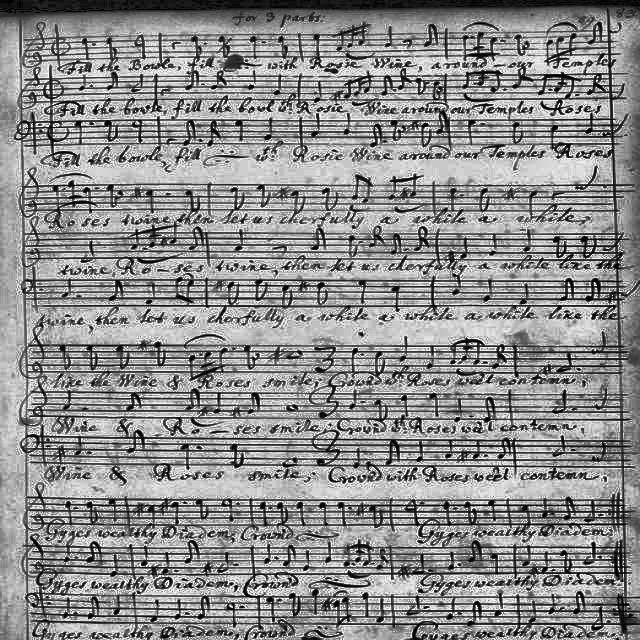Diez: (394, 564, 410, 582), (52, 445, 66, 463), (274, 186, 290, 200), (502, 187, 518, 201), (352, 502, 366, 518), (131, 502, 145, 518), (201, 561, 211, 579), (605, 290, 617, 304), (212, 279, 225, 291), (298, 280, 310, 292), (529, 566, 541, 578), (148, 566, 160, 578), (456, 450, 468, 462), (408, 118, 418, 132), (132, 186, 142, 198), (323, 600, 333, 612), (400, 188, 408, 200), (160, 500, 168, 512), (160, 237, 168, 247)
Eighth-note: (128, 430, 152, 456), (227, 442, 249, 470), (238, 340, 256, 372), (229, 182, 247, 210), (481, 396, 499, 424), (466, 600, 484, 628), (386, 441, 404, 467), (187, 188, 206, 212), (152, 340, 168, 368), (58, 344, 74, 372), (255, 183, 272, 209), (251, 279, 271, 301), (123, 392, 145, 412), (102, 120, 120, 144), (320, 186, 338, 210), (374, 398, 392, 422), (105, 183, 121, 209), (310, 228, 326, 254), (84, 345, 100, 371), (580, 235, 598, 257), (190, 225, 204, 253), (588, 22, 604, 46), (478, 188, 494, 212), (551, 234, 567, 258), (586, 278, 602, 302), (276, 501, 292, 525), (464, 502, 480, 526), (184, 541, 200, 565), (287, 592, 303, 616), (193, 498, 210, 520), (182, 120, 196, 146), (560, 277, 574, 303), (280, 284, 294, 310), (110, 281, 126, 303), (468, 540, 484, 562), (105, 36, 119, 60), (217, 34, 231, 58), (564, 76, 578, 100), (511, 120, 525, 144), (349, 172, 361, 200), (315, 282, 329, 306), (82, 184, 94, 212), (116, 344, 130, 368), (369, 504, 383, 528), (559, 549, 573, 573), (284, 544, 298, 568), (86, 596, 100, 620), (196, 596, 210, 620), (374, 349, 386, 376), (567, 33, 581, 56), (86, 501, 100, 524), (426, 23, 438, 49), (342, 596, 354, 622), (292, 190, 306, 212), (226, 282, 240, 304), (186, 389, 200, 411), (248, 393, 262, 415), (498, 439, 512, 461), (87, 542, 101, 564), (50, 183, 61, 210), (278, 36, 290, 60), (514, 33, 526, 57), (370, 124, 382, 148), (128, 228, 140, 252), (421, 124, 433, 148), (562, 496, 574, 520), (573, 590, 585, 614), (185, 71, 199, 91), (390, 232, 402, 255), (414, 76, 428, 95), (398, 68, 409, 92), (438, 113, 450, 135), (186, 280, 197, 304), (486, 35, 498, 57), (390, 120, 402, 142), (187, 354, 197, 380), (473, 338, 482, 366), (491, 70, 501, 94), (432, 80, 444, 100), (382, 76, 394, 96), (410, 174, 420, 198), (362, 178, 372, 202), (172, 278, 182, 302), (169, 222, 179, 245), (218, 346, 228, 369), (538, 74, 548, 96), (108, 72, 119, 92), (334, 32, 346, 50), (462, 34, 470, 58), (389, 176, 397, 200), (348, 236, 356, 260), (450, 342, 458, 366), (344, 544, 352, 568), (332, 602, 340, 624), (364, 542, 371, 566), (463, 71, 472, 89), (346, 80, 354, 100)
Eighth-rest: (270, 243, 288, 257)
Half-note: (126, 120, 148, 144), (132, 34, 152, 60), (402, 594, 422, 618), (79, 240, 97, 264), (556, 352, 574, 374), (550, 390, 566, 414), (404, 501, 420, 524), (224, 601, 238, 627), (130, 74, 148, 94), (216, 552, 232, 574), (583, 542, 597, 566), (220, 498, 233, 522), (592, 606, 604, 630), (584, 500, 596, 524), (552, 436, 566, 456), (413, 554, 427, 574)
Quarter-note: (144, 280, 160, 308), (398, 335, 414, 363), (424, 344, 440, 372), (230, 228, 248, 252), (520, 228, 536, 254), (428, 392, 444, 418), (492, 592, 506, 620), (308, 589, 322, 617), (178, 442, 192, 470), (306, 114, 322, 138), (296, 502, 312, 526), (388, 287, 402, 313), (527, 600, 541, 626), (266, 597, 280, 623), (518, 282, 532, 306), (487, 233, 501, 257), (459, 238, 473, 262), (262, 116, 276, 140), (318, 502, 332, 526), (400, 394, 414, 418), (357, 279, 369, 305), (376, 598, 388, 624), (79, 38, 93, 60), (482, 280, 496, 302), (144, 190, 158, 212), (361, 591, 372, 619), (158, 552, 172, 574), (441, 500, 452, 528), (59, 391, 73, 413), (190, 35, 202, 59), (72, 121, 84, 145), (310, 34, 322, 58), (546, 592, 558, 616), (108, 498, 120, 522), (59, 278, 72, 300), (452, 398, 463, 424), (466, 118, 476, 146), (349, 346, 359, 374), (342, 112, 354, 134), (272, 75, 284, 97), (384, 26, 396, 48), (489, 553, 501, 575), (149, 599, 159, 625), (337, 501, 347, 527), (63, 499, 73, 525), (447, 187, 458, 210), (114, 595, 125, 617), (249, 35, 259, 59), (527, 190, 537, 214), (584, 114, 596, 134), (549, 122, 559, 146), (246, 72, 258, 92), (61, 596, 71, 620), (262, 542, 272, 566), (520, 504, 532, 524), (259, 502, 269, 526), (171, 502, 181, 526), (72, 436, 84, 456), (348, 390, 360, 410), (212, 393, 224, 413), (523, 545, 533, 567), (353, 447, 363, 469), (417, 441, 427, 463), (76, 74, 88, 92), (446, 596, 454, 622), (453, 276, 463, 296), (60, 544, 70, 564), (488, 500, 498, 520), (148, 504, 158, 524), (174, 598, 182, 622), (110, 554, 118, 578), (325, 540, 333, 564), (314, 82, 322, 105), (140, 545, 148, 567), (303, 550, 311, 572), (542, 551, 550, 573), (540, 499, 548, 521), (238, 118, 246, 138), (446, 550, 454, 570), (446, 440, 454, 460), (472, 440, 480, 460)
Quarter-rest: (314, 434, 342, 471), (310, 389, 338, 419), (314, 345, 338, 375), (402, 38, 418, 52)
Sixteenth-note: (205, 120, 223, 148), (366, 224, 384, 248), (414, 227, 430, 253), (514, 68, 530, 92), (144, 224, 160, 248), (489, 344, 506, 366), (587, 74, 603, 94), (472, 30, 483, 58), (551, 74, 565, 95), (212, 72, 226, 92), (360, 20, 370, 48), (202, 352, 214, 374), (461, 338, 471, 362), (378, 548, 388, 572), (544, 36, 552, 64), (348, 26, 358, 48), (476, 69, 488, 87), (365, 73, 375, 93), (353, 76, 363, 96), (355, 540, 363, 564), (68, 180, 76, 204), (556, 36, 562, 60)
Treble-clef: (11, 326, 52, 378), (10, 220, 44, 268), (14, 380, 48, 428), (14, 23, 46, 69), (19, 482, 49, 530), (12, 167, 40, 217), (22, 534, 46, 578), (15, 70, 40, 112)
